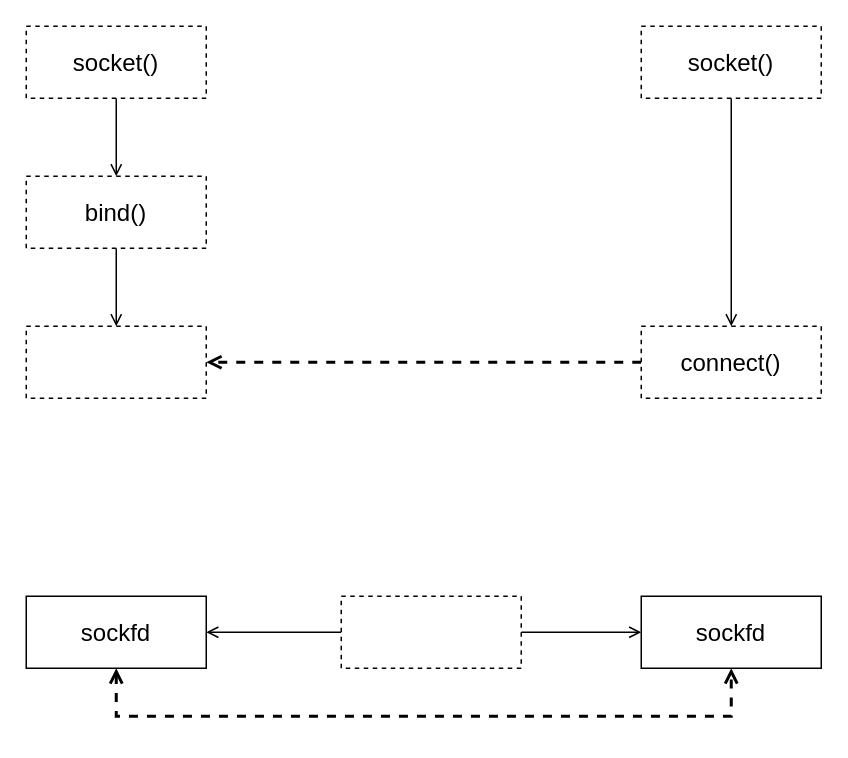
This 848x758 diagram has some shape labels left out. Each missing label, with the centre of its shape:
"listen()" belongs at (115,361).
"scoketpair" belongs at (430,631).
